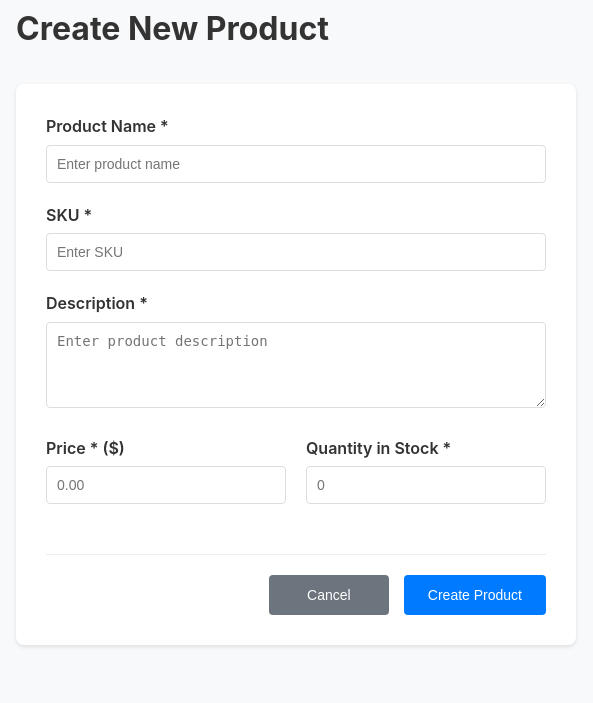
Test: ProductForm › should show price validation error for zero values
This screenshot has width=593, height=703.
# Fill required fields
In the field with test id "product-name-input": (296, 164) [46,145,546,183], type "Test Product"
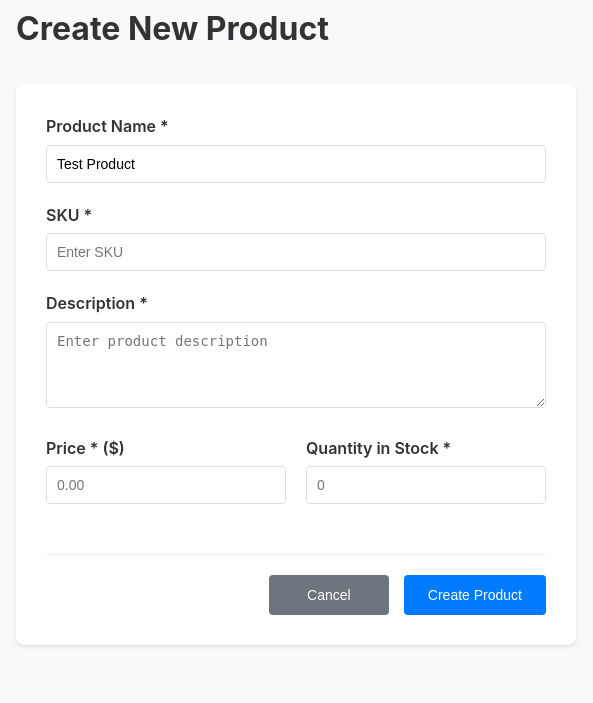
In the field with test id "product-sku-input": (296, 252) [46,233,546,271], type "TEST-001"
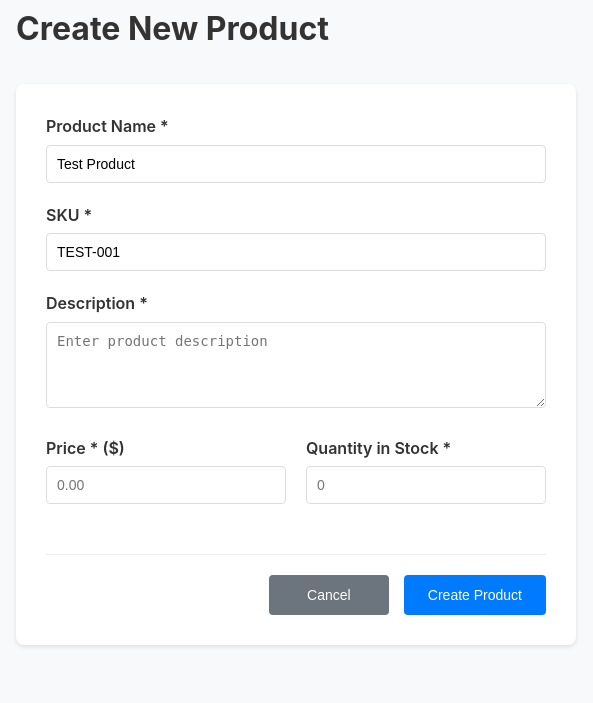
In the text box with test id "product-description-input": (296, 365) [46,322,546,408], type "Test description"
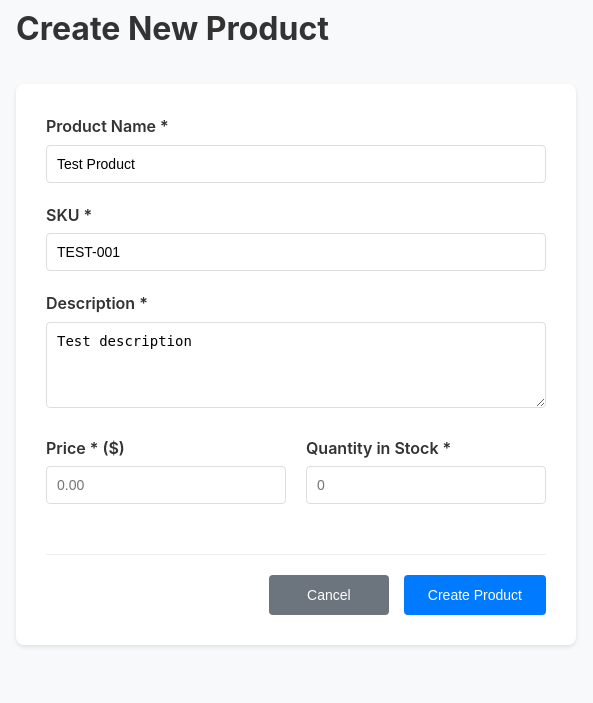
# Enter zero price
In the number field with test id "product-price-input": (166, 485) [46,466,286,504], type "0"
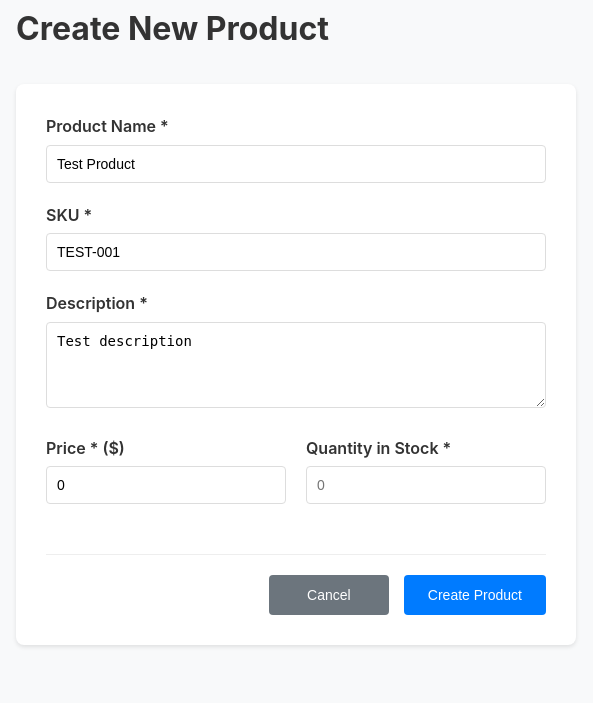
Click the button with test id "submit-btn": (475, 595) [404,575,546,615]
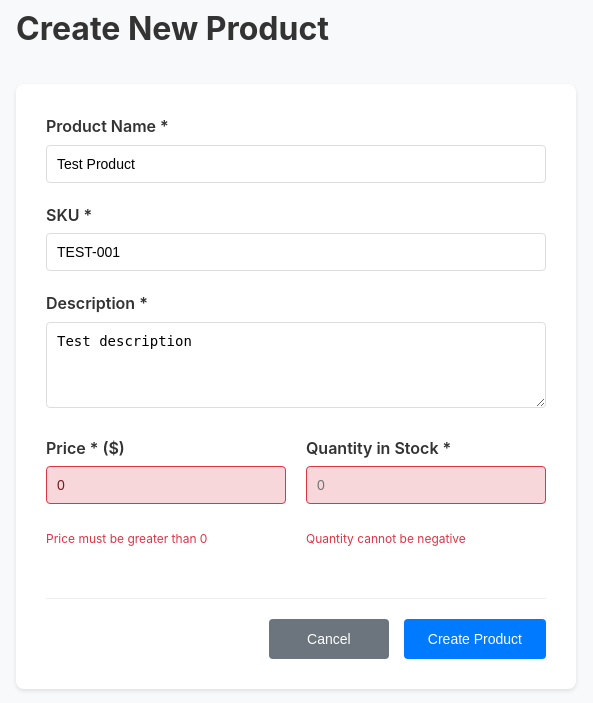
Expected: the text with test id "price-error" reads "Price must be greater than 0", [46,531,207,546]
